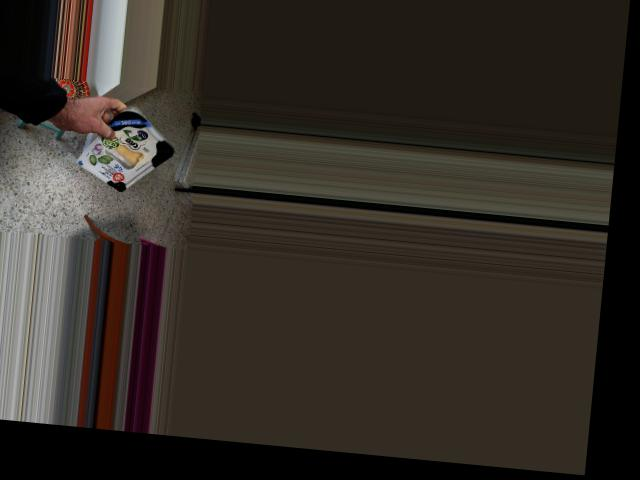cheese: (87, 84, 166, 200)
